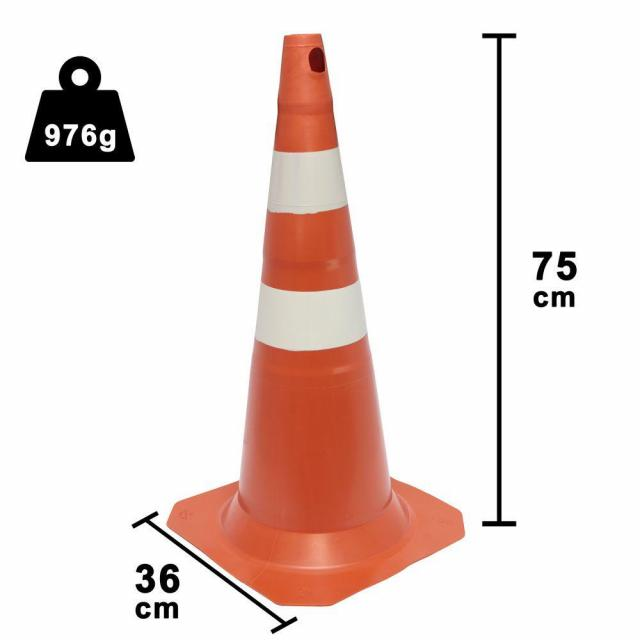cone: (151, 21, 496, 603)
